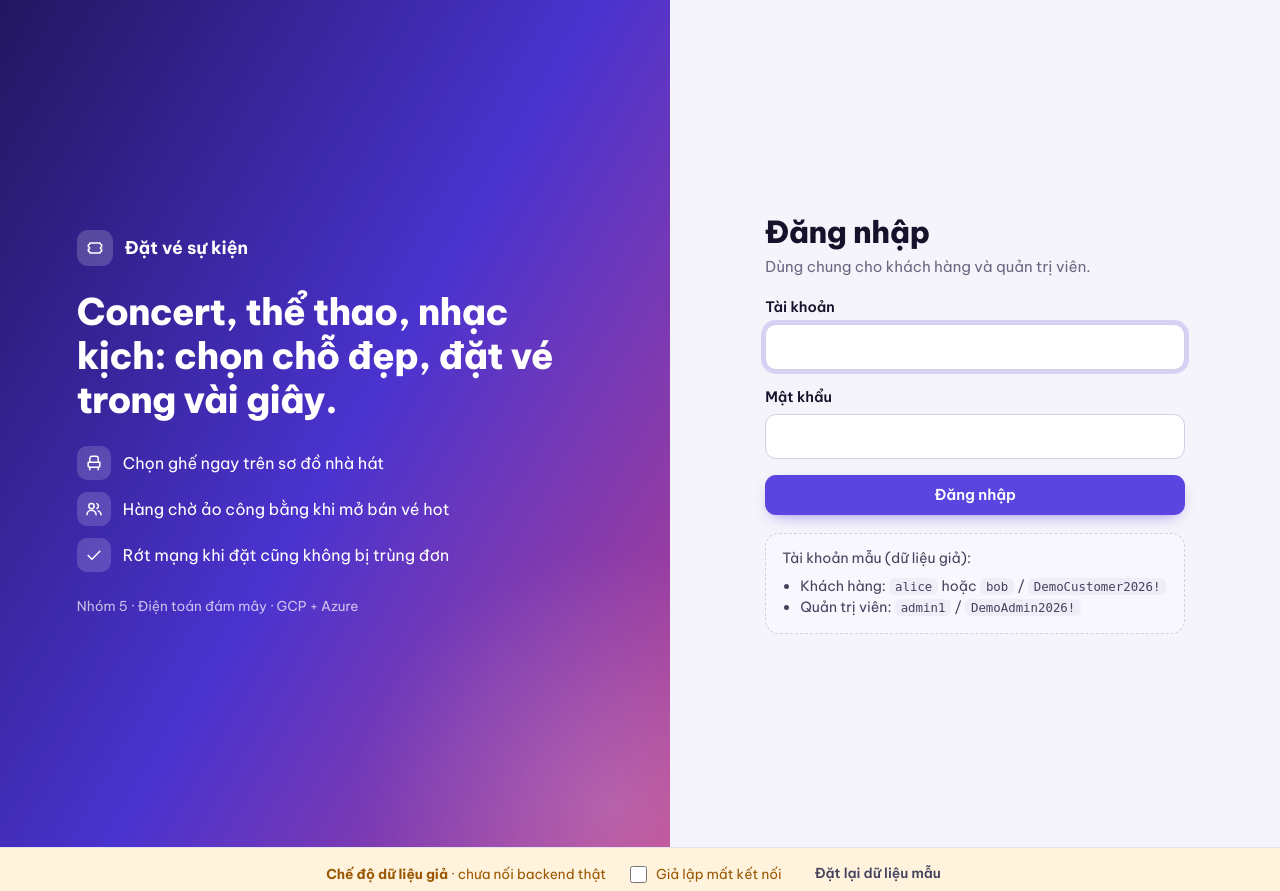
it: đăng nhập › chưa đăng nhập thì bị chuyển về trang đăng nhập, đăng nhập xong quay lại trang cũ
The image size is (1280, 891).
Expected: the heading "Đăng nhập" is shown, [765,213,930,251]
Type "alice" into the field labelled "Tài khoản" at (975, 347), box [765,324,1185,370]
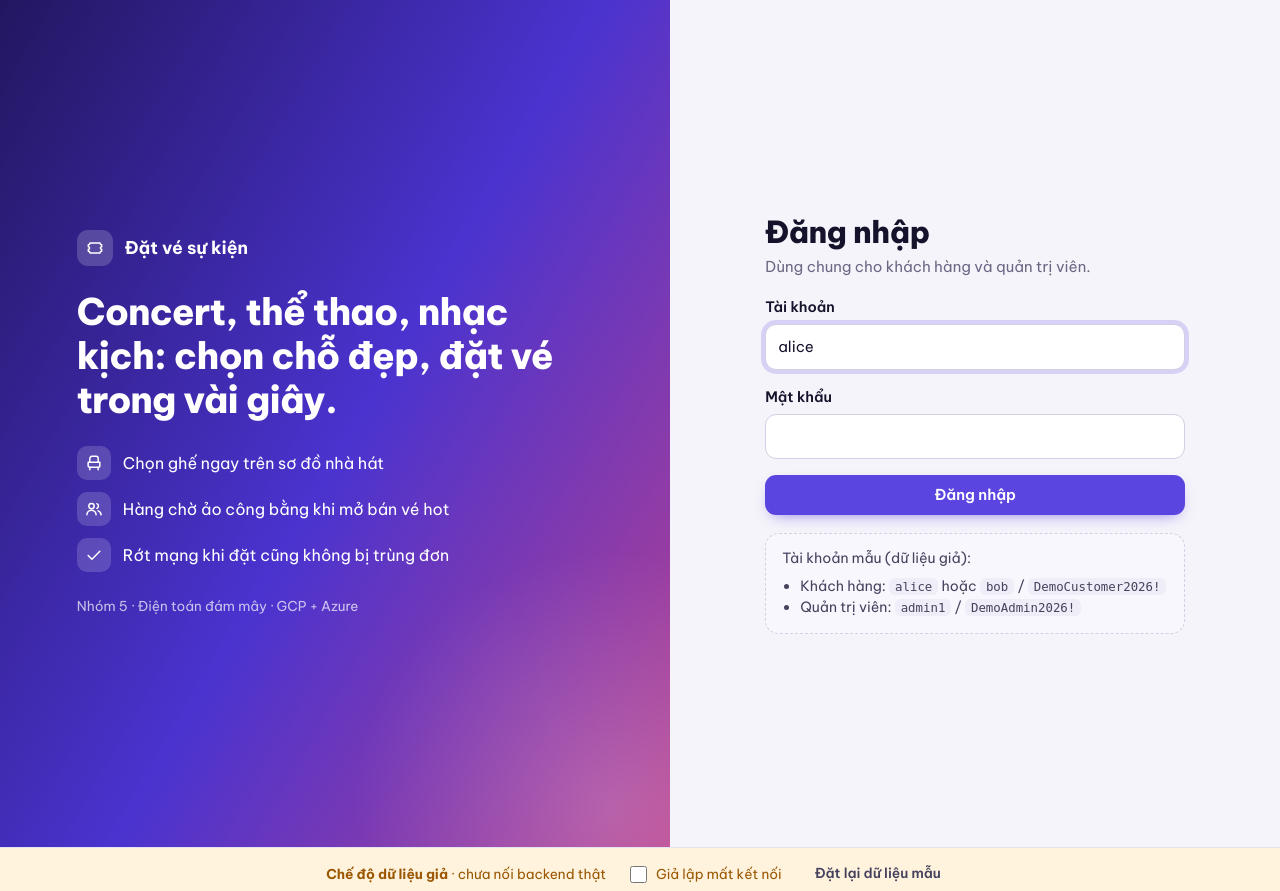
Type "DemoCustomer2026!" into the password field labelled "Mật khẩu" at (975, 437), box [765,414,1185,459]
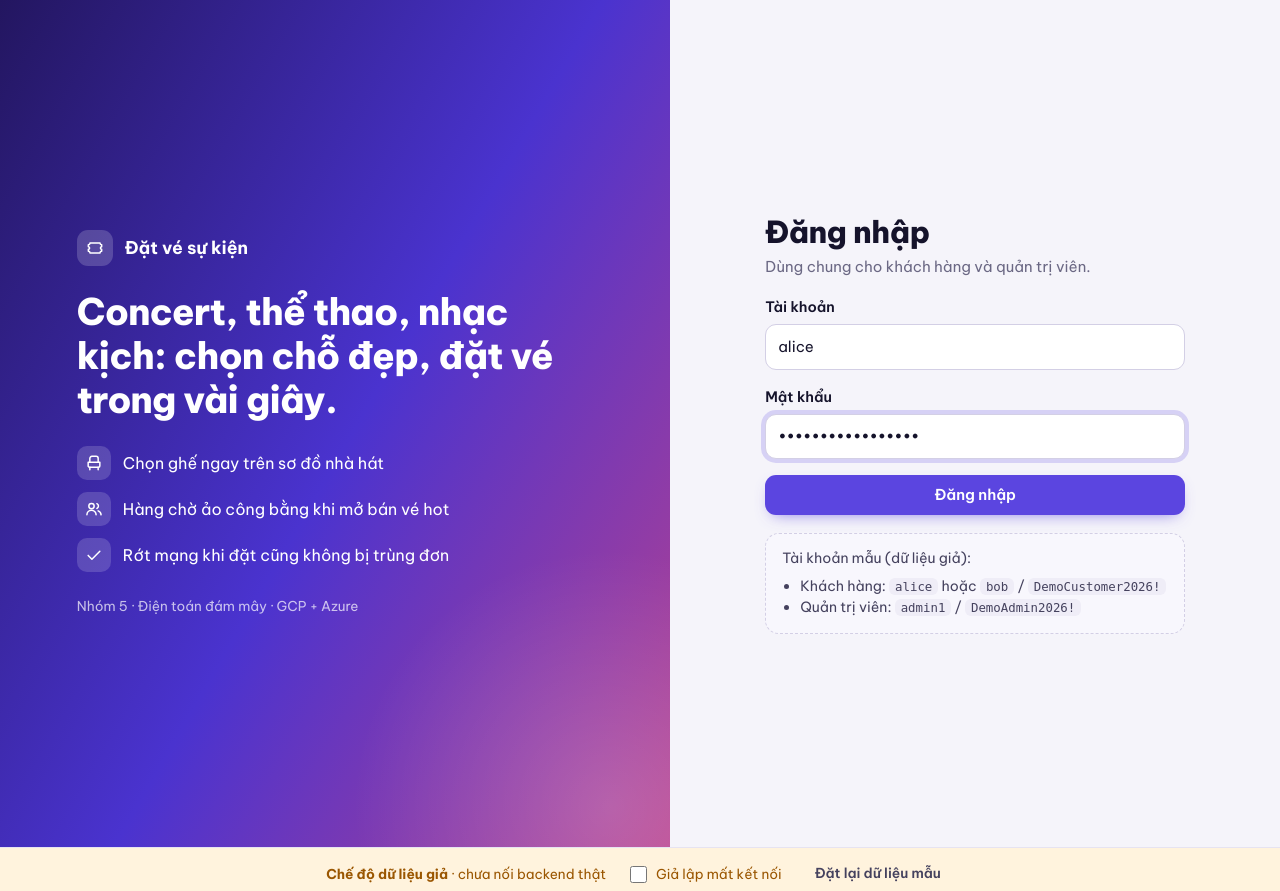
Click the button "Đăng nhập" at (975, 495), box [765,475,1185,515]
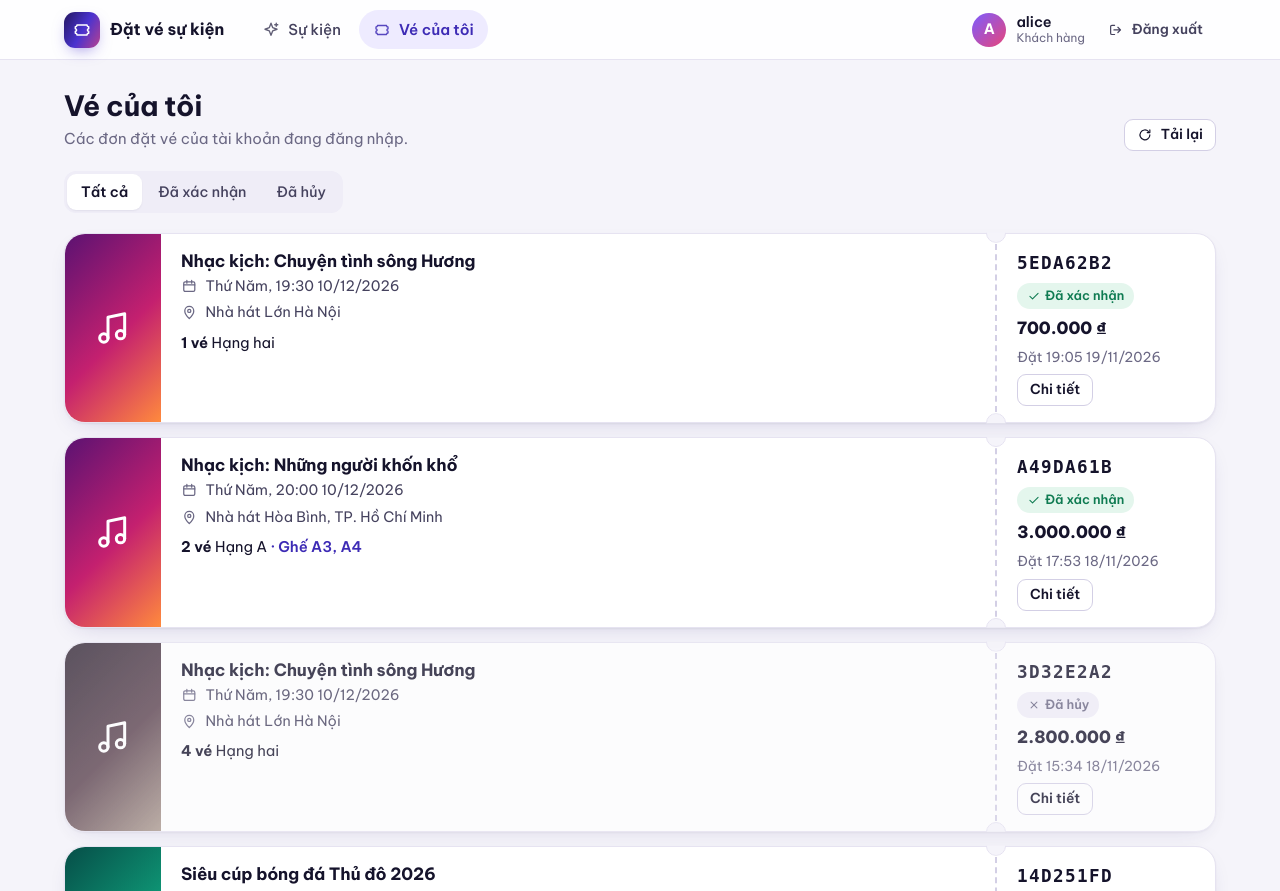
Now the heading "Vé của tôi" is shown, box [64,88,202,123]
Now the text "alice" is shown, box [1016,13,1052,31]
